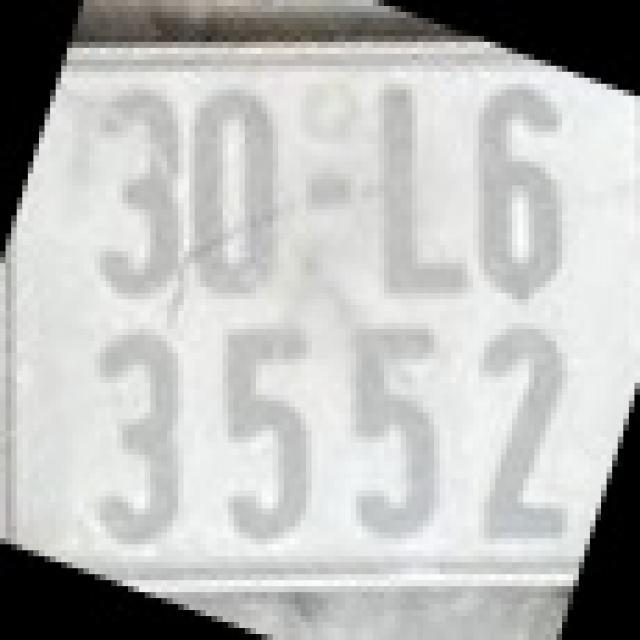0: (184, 84, 284, 294)
2: (473, 316, 573, 544)
3: (89, 328, 189, 544), (89, 84, 184, 294)
5: (345, 316, 445, 538), (217, 322, 317, 538)
6: (473, 83, 568, 300)
L: (373, 83, 473, 300)
